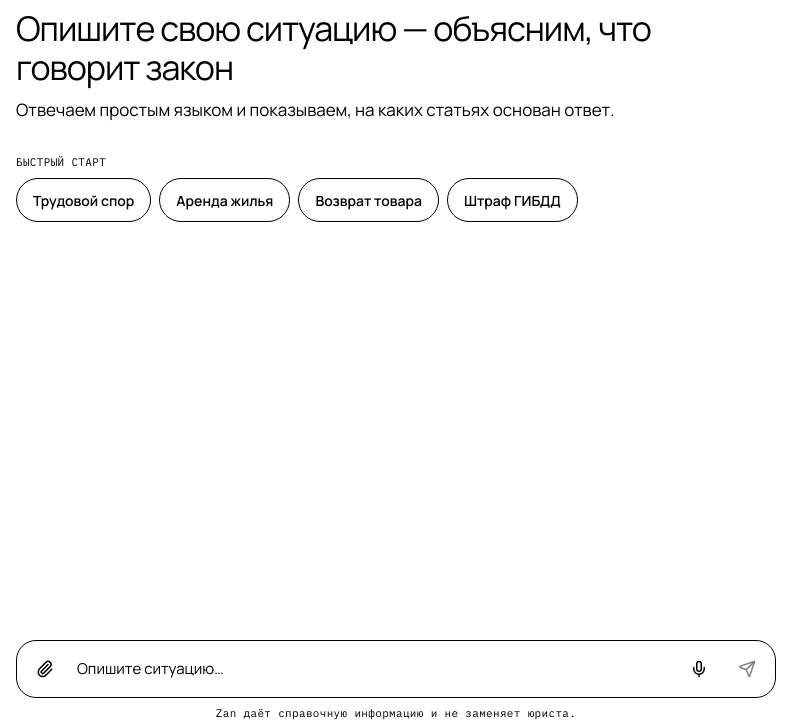
Test: ChatPage › пустое состояние: быстрая тема подставляет черновик в композер
Click the button "Трудовой спор". click: (84, 200)
box: [16,178,151,222]
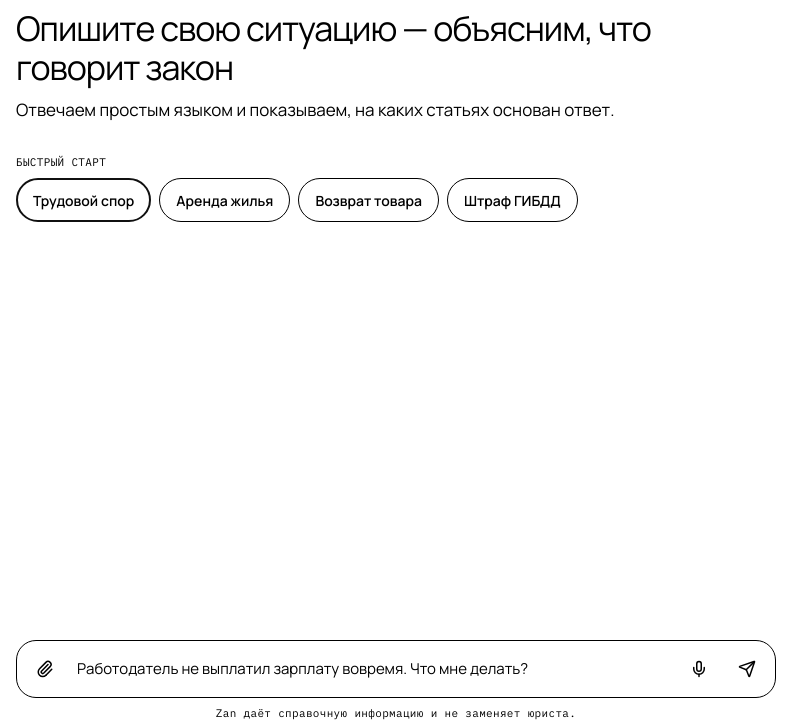
Now the text box with placeholder "Опишите ситуацию…" holds "Работодатель не выплатил зарплату вовремя. Что мне делать?", box [71,648,673,691]
